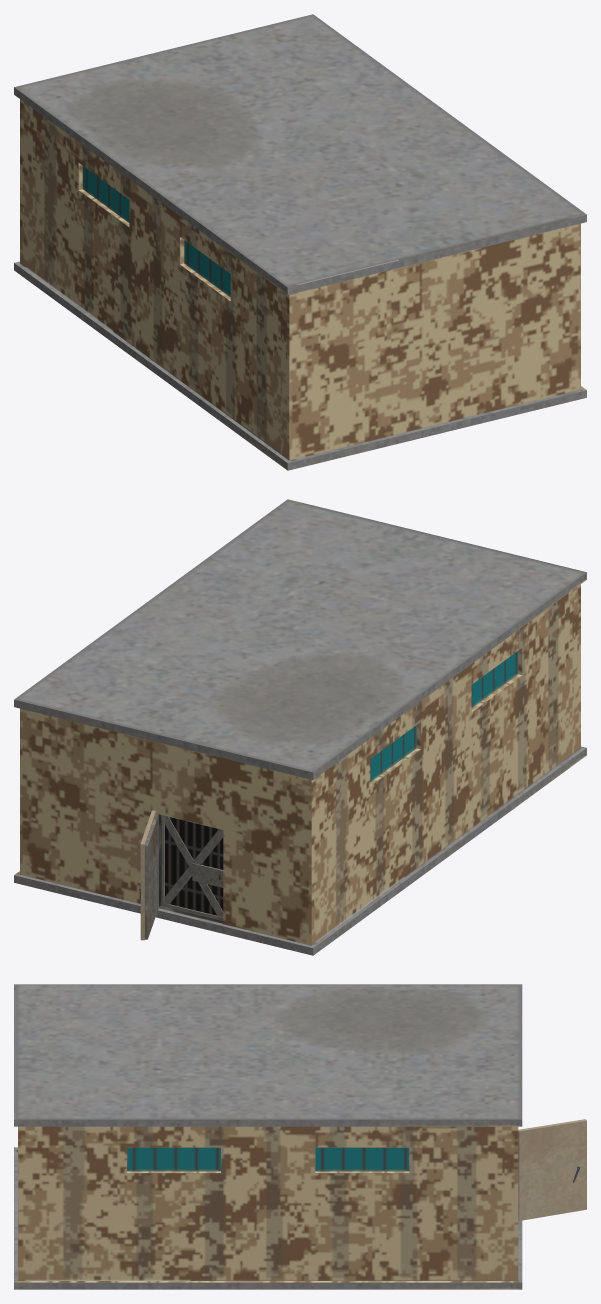
The model's file is sklad.glb.
3 renders of one model, top to bottom at view 1: azimuth 30°, elevation 25°; view 2: azimuth 150°, elevation 25°; view 3: azimuth 270°, elevation 25°, orthographic. The views are drawn at different scales.
Parts seen in each view (by area): view 1: Box001; view 2: Box001; view 3: Box001.
Part boxes in pixels (x1=…): Box001: x1=14, y1=14, x2=586, y2=470; Box001: x1=14, y1=499, x2=586, y2=955; Box001: x1=14, y1=984, x2=586, y2=1289.
Size of the model in its own units: 1.3 by 0.762 by 2.33.
Materials: 1 (1 with a texture image).
